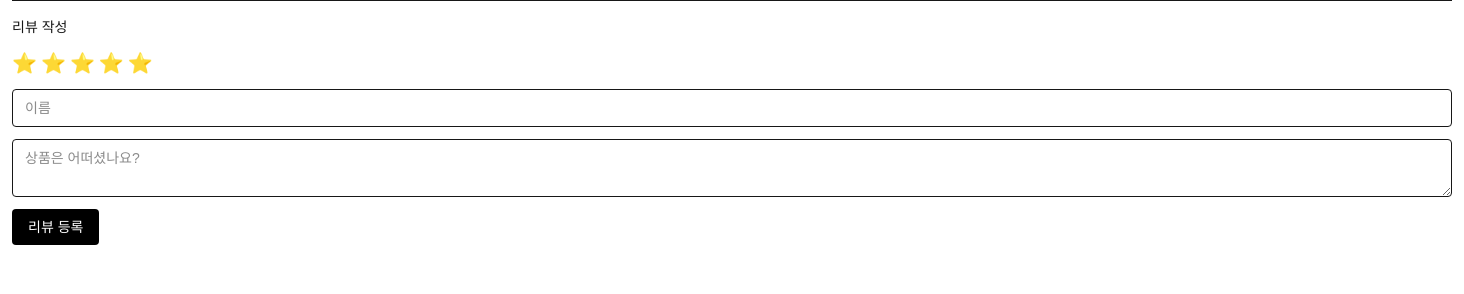
Test case: ReviewForm › 실패: 이미 리뷰를 남겼다는 409 메시지를 서버 문구 그대로 보여준다
Expected: the field labelled "이름" is shown, [12,89,1452,127]
Click the radio button named "4점" at x=111, y=63, box [99,49,124,77]
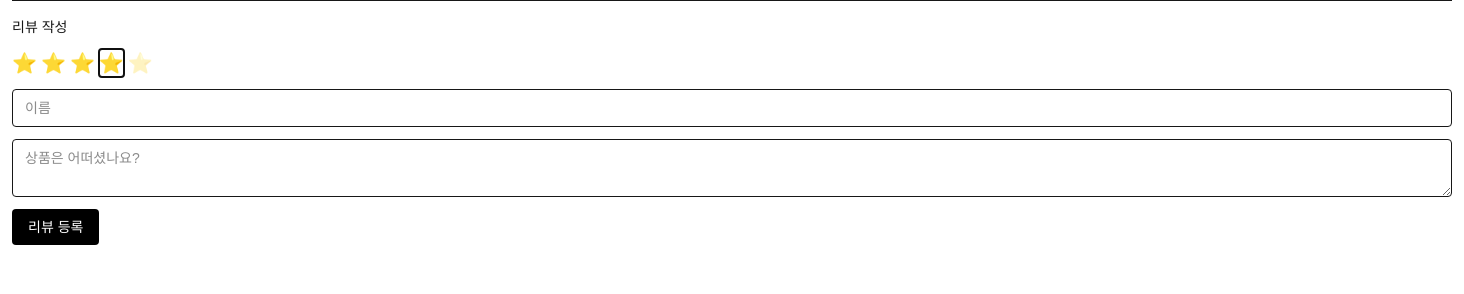
Type "리뷰어" into the field labelled "이름" at x=732, y=108, box [12,89,1452,127]
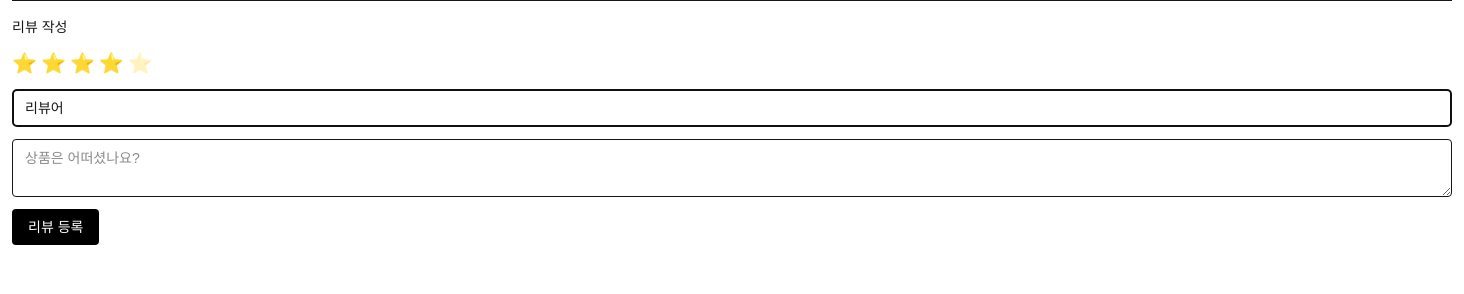
Type "좋아요" into the text box named "리뷰 내용" at x=732, y=168, box [12,139,1452,197]
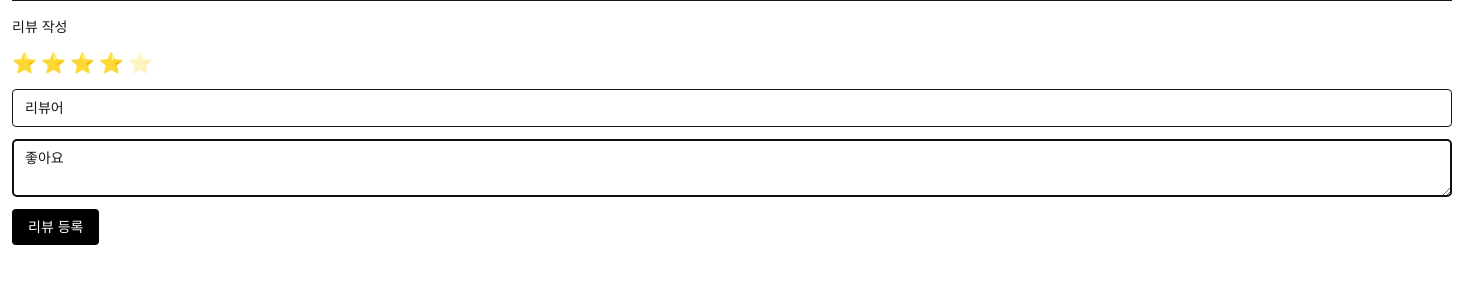
Click the button "리뷰 등록" at x=56, y=227, box [12,209,99,245]
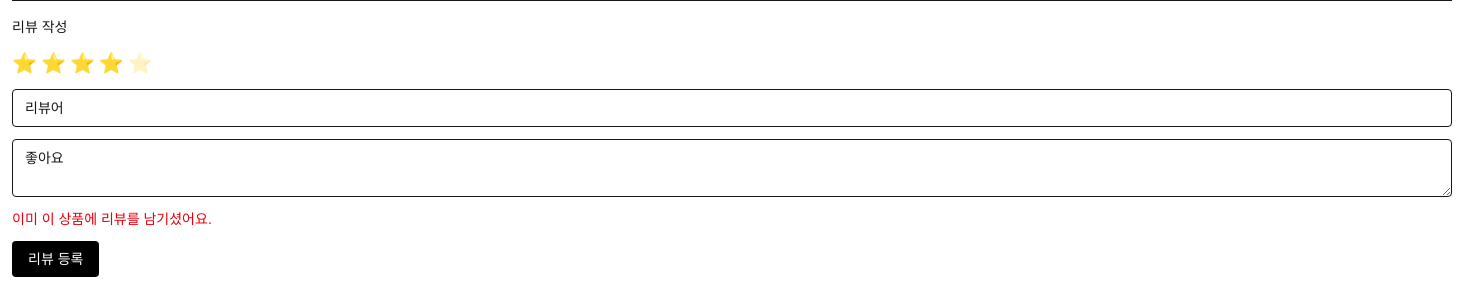
Result: the message reads "이미 이 상품에 리뷰를 남기셨어요." at [12,211,212,227]
